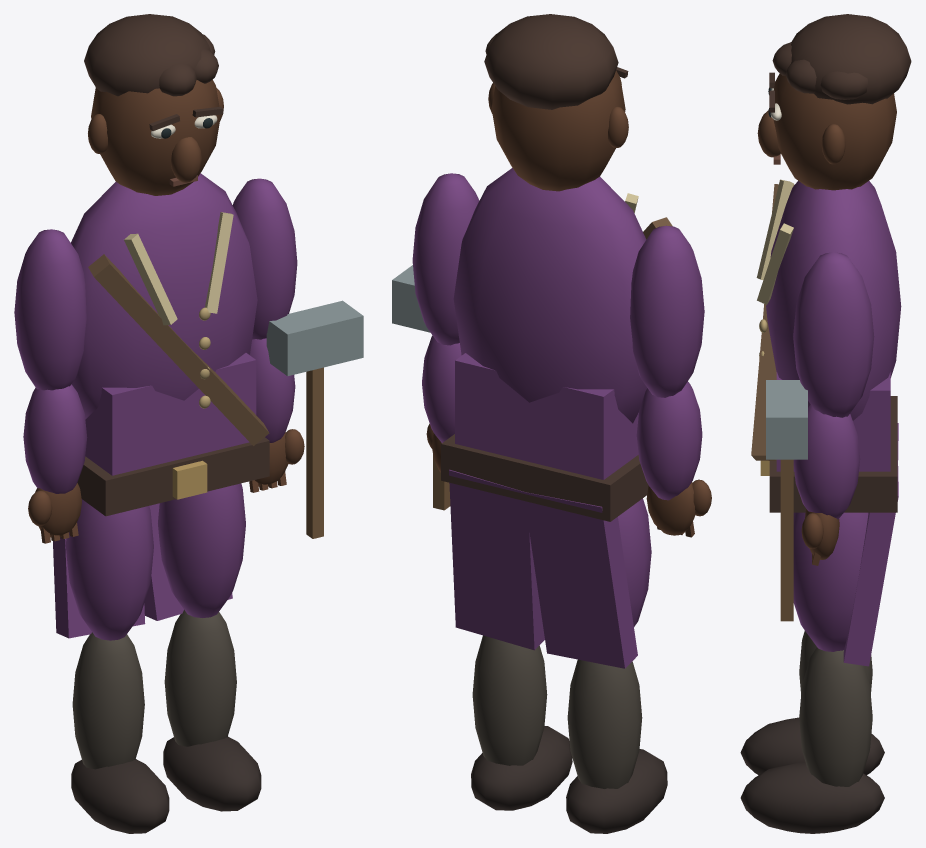
Rendered from willshaper.glb.
3 views of the same model, side by side, from view 1: azimuth 30°, elevation 25°; view 2: azimuth 150°, elevation 25°; view 3: azimuth 270°, elevation 25° (orthographic). The views are drawn at different scales.
Visible parts, largest first — view 1: radiant_7_stone, shin_and_foot_stone (×2), face_and_hair_stone, thigh_stone (×2), upper_arm_stone (×2), forearm_and_fingers_stone (×2), order_equipment_metal, split_cloth_stone, order_equipment_stone, radiant_7_metal; view 2: radiant_7_stone, split_cloth_stone, shin_and_foot_stone (×2), face_and_hair_stone, upper_arm_stone (×2), forearm_and_fingers_stone (×2), thigh_stone, order_equipment_metal, order_equipment_stone; view 3: radiant_7_stone, face_and_hair_stone, shin_and_foot_stone (×2), upper_arm_stone, thigh_stone, forearm_and_fingers_stone, split_cloth_stone, order_equipment_metal, order_equipment_stone.
Part boxes in pixels (x1,y1,x2,y2): radiant_7_stone: (71, 173, 269, 516); shin_and_foot_stone (×2): (71, 609, 261, 833); face_and_hair_stone: (84, 14, 223, 195); thigh_stone (×2): (65, 483, 245, 640); upper_arm_stone (×2): (14, 178, 297, 390); forearm_and_fingers_stone (×2): (23, 338, 304, 543); order_equipment_metal: (266, 300, 363, 376); split_cloth_stone: (53, 503, 232, 638); order_equipment_stone: (306, 367, 323, 538); radiant_7_metal: (172, 307, 210, 499); radiant_7_stone: (441, 168, 672, 521); split_cloth_stone: (449, 469, 637, 668); shin_and_foot_stone (×2): (471, 635, 667, 833); face_and_hair_stone: (484, 14, 628, 191); upper_arm_stone (×2): (412, 173, 704, 397); forearm_and_fingers_stone (×2): (422, 335, 711, 537); thigh_stone: (618, 498, 651, 626); order_equipment_metal: (392, 265, 430, 332); order_equipment_stone: (433, 455, 450, 510); radiant_7_stone: (751, 179, 901, 512); face_and_hair_stone: (757, 14, 911, 190); shin_and_foot_stone (×2): (740, 630, 884, 833); upper_arm_stone: (793, 252, 874, 417); thigh_stone: (793, 512, 868, 651); forearm_and_fingers_stone: (793, 404, 860, 565); split_cloth_stone: (843, 423, 898, 666); order_equipment_metal: (766, 380, 807, 459); order_equipment_stone: (780, 459, 793, 621).
Size of the model in its own units: 0.777 by 1.86 by 0.367.
